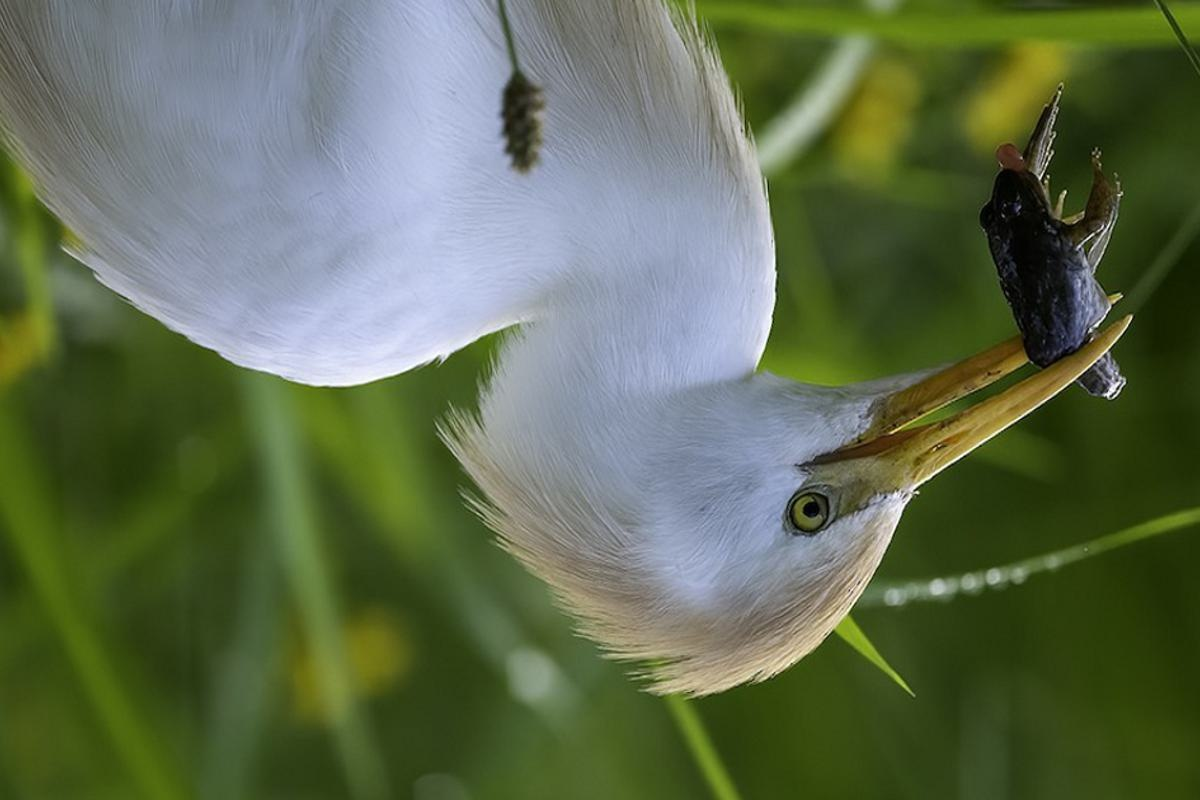egret: (1, 1, 1110, 712)
